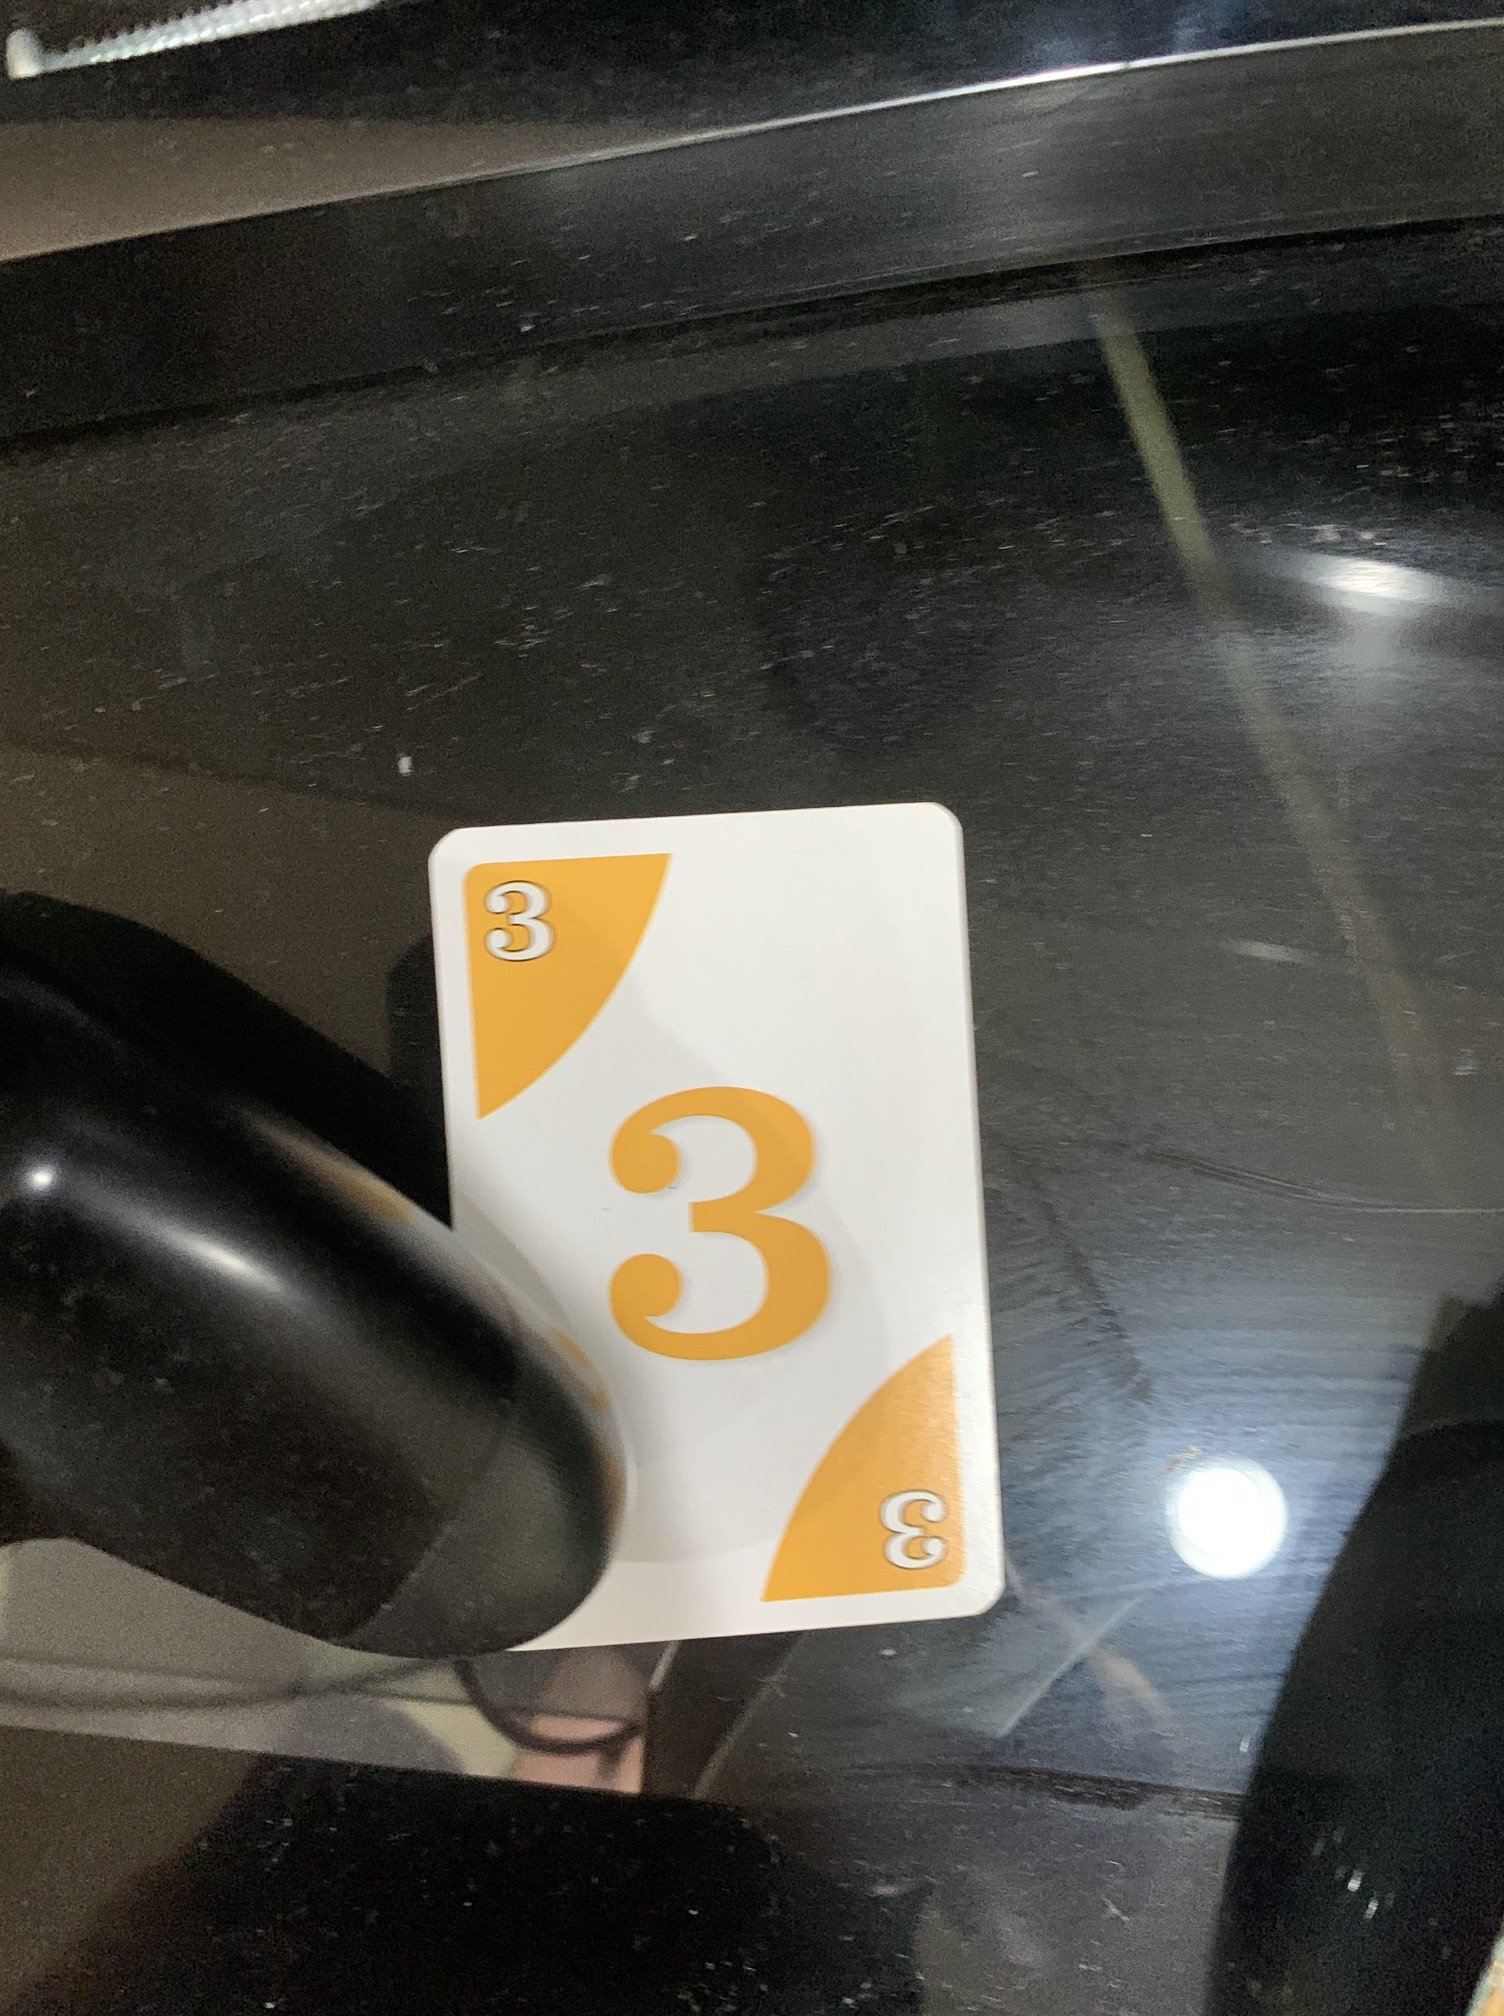three: (438, 795, 1011, 1664)
